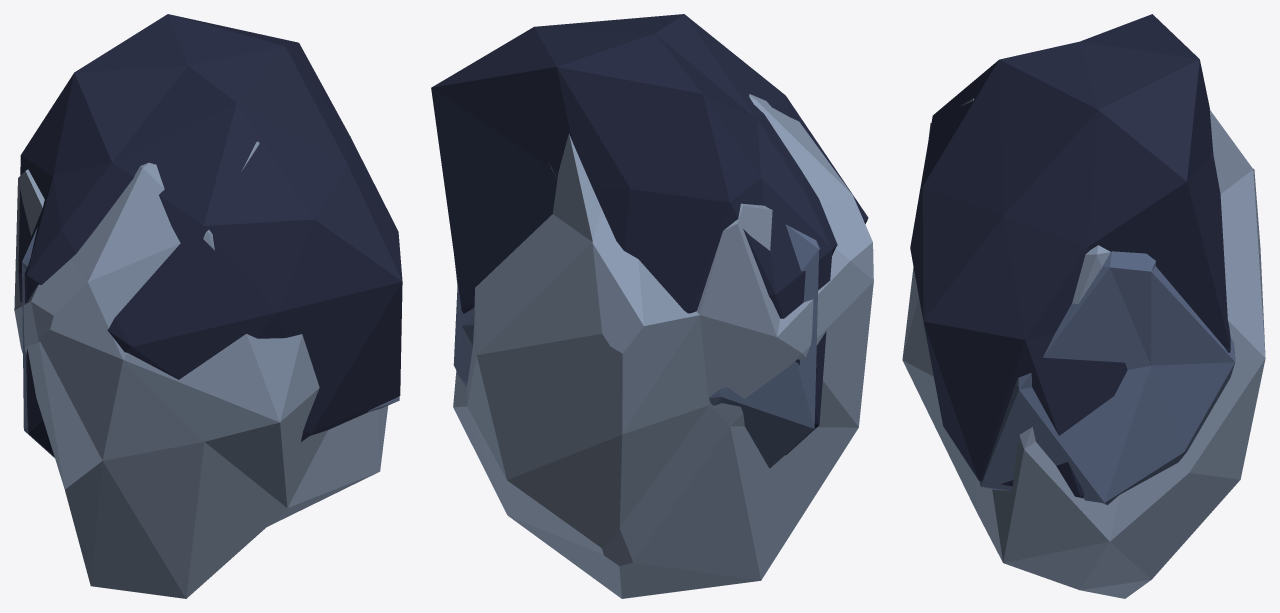
Rendered from Stones_01.fbx.
The picture shows the model from 3 angles, left to right: view 1: azimuth 30°, elevation 25°; view 2: azimuth 150°, elevation 25°; view 3: azimuth 270°, elevation 25°; orthographic projection. The views are drawn at different scales.
Visible parts, largest first — view 1: OreNode_01, OreNode_03, OreNode_02; view 2: OreNode_03, OreNode_01, OreNode_02; view 3: OreNode_01, OreNode_03, OreNode_02.
Part boxes in pixels (left/top/right/bottom): OreNode_01: left=18, top=14, right=402, bottom=456; OreNode_03: left=14, top=136, right=387, bottom=598; OreNode_02: left=22, top=227, right=399, bottom=457; OreNode_03: left=453, top=94, right=873, bottom=598; OreNode_01: left=431, top=14, right=868, bottom=454; OreNode_02: left=453, top=163, right=820, bottom=468; OreNode_01: left=910, top=14, right=1230, bottom=498; OreNode_03: left=902, top=98, right=1265, bottom=598; OreNode_02: left=979, top=154, right=1235, bottom=505.
Size of the model in its own units: 1.97 by 2.72 by 1.61.
